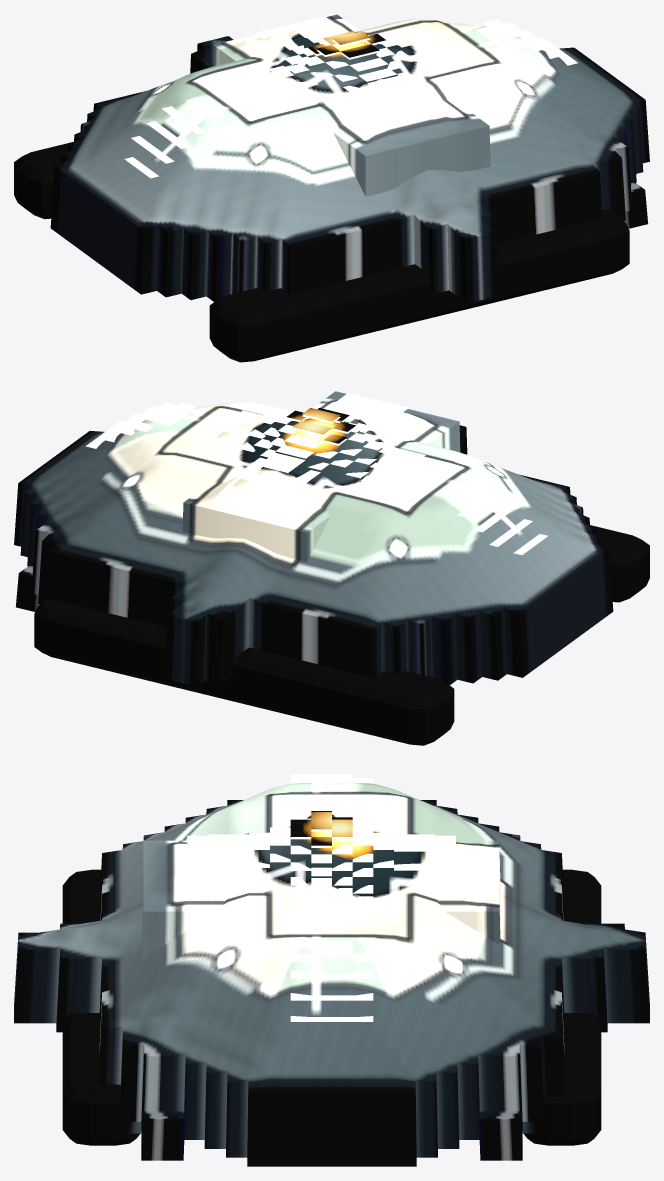
The picture shows the model from 3 angles, top to bottom: view 1: azimuth 30°, elevation 25°; view 2: azimuth 150°, elevation 25°; view 3: azimuth 270°, elevation 25°; orthographic projection. The views are drawn at different scales.
Visible parts, largest first — view 1: chassis-heightfield, locomotion-right, repair-arms-relief, semantic-team-surfaces, locomotion-left, authored-emissive-surfaces, underbody-layered-relief; view 2: chassis-heightfield, locomotion-left, repair-arms-relief, semantic-team-surfaces, locomotion-right, authored-emissive-surfaces, underbody-layered-relief; view 3: chassis-heightfield, repair-arms-relief, semantic-team-surfaces, locomotion-right, locomotion-left, underbody-layered-relief, authored-emissive-surfaces.
Part boxes in pixels (box(x1,y1,x2,y2)): chassis-heightfield: box(50, 19, 649, 303); locomotion-right: box(209, 209, 629, 362); repair-arms-relief: box(213, 14, 490, 196); semantic-team-surfaces: box(124, 16, 577, 178); locomotion-left: box(14, 142, 73, 219); authored-emissive-surfaces: box(308, 31, 385, 57); underbody-layered-relief: box(624, 179, 648, 228); chassis-heightfield: box(14, 402, 613, 686); locomotion-left: box(34, 598, 454, 745); repair-arms-relief: box(182, 391, 460, 561); semantic-team-surfaces: box(85, 393, 547, 554); locomotion-right: box(590, 525, 649, 602); authored-emissive-surfaces: box(287, 408, 355, 443); underbody-layered-relief: box(16, 563, 39, 611); chassis-heightfield: box(14, 782, 649, 1166); repair-arms-relief: box(142, 810, 500, 958); semantic-team-surfaces: box(187, 774, 476, 1021); locomotion-right: box(62, 869, 139, 1145); locomotion-left: box(524, 869, 601, 1145); underbody-layered-relief: box(128, 1111, 535, 1160); authored-emissive-surfaces: box(290, 811, 352, 845).
Size of the model in its own units: 0.825 by 0.297 by 0.75.
5 materials, 4 textured.
